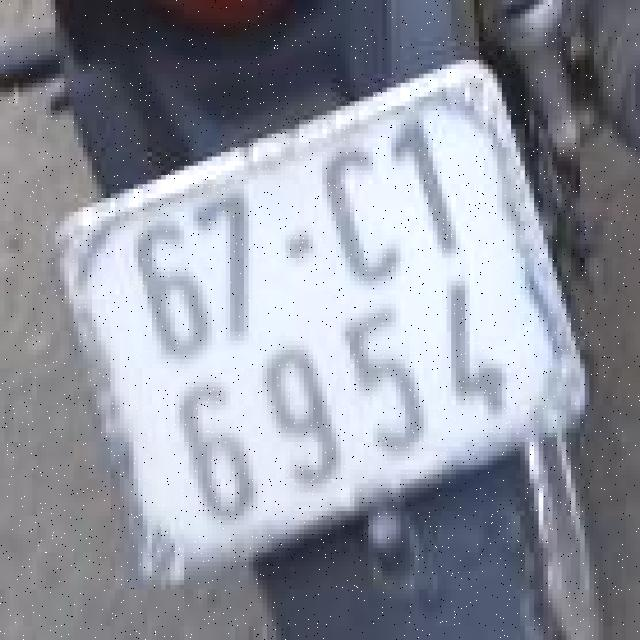1: (376, 97, 493, 278)
4: (424, 262, 530, 443)
5: (341, 285, 448, 468)
6: (116, 204, 227, 372), (164, 368, 271, 537)
7: (176, 175, 278, 359)
9: (249, 322, 367, 505)
C: (305, 124, 418, 299)
